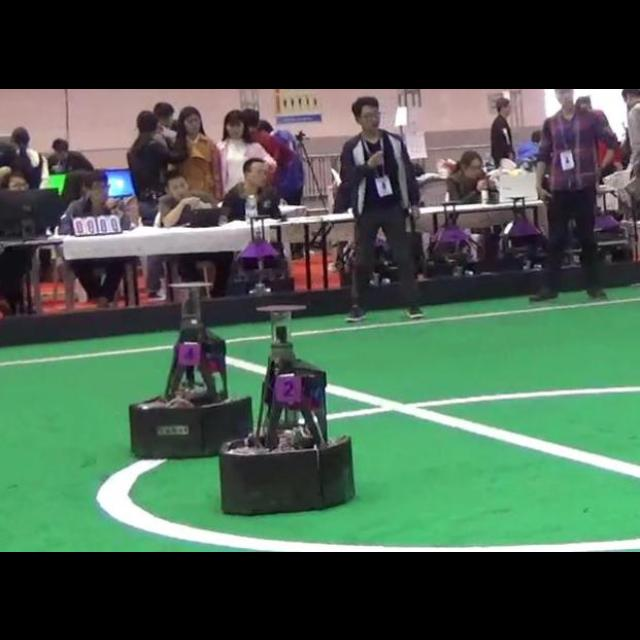robot: (220, 304, 356, 514), (129, 282, 252, 457)
